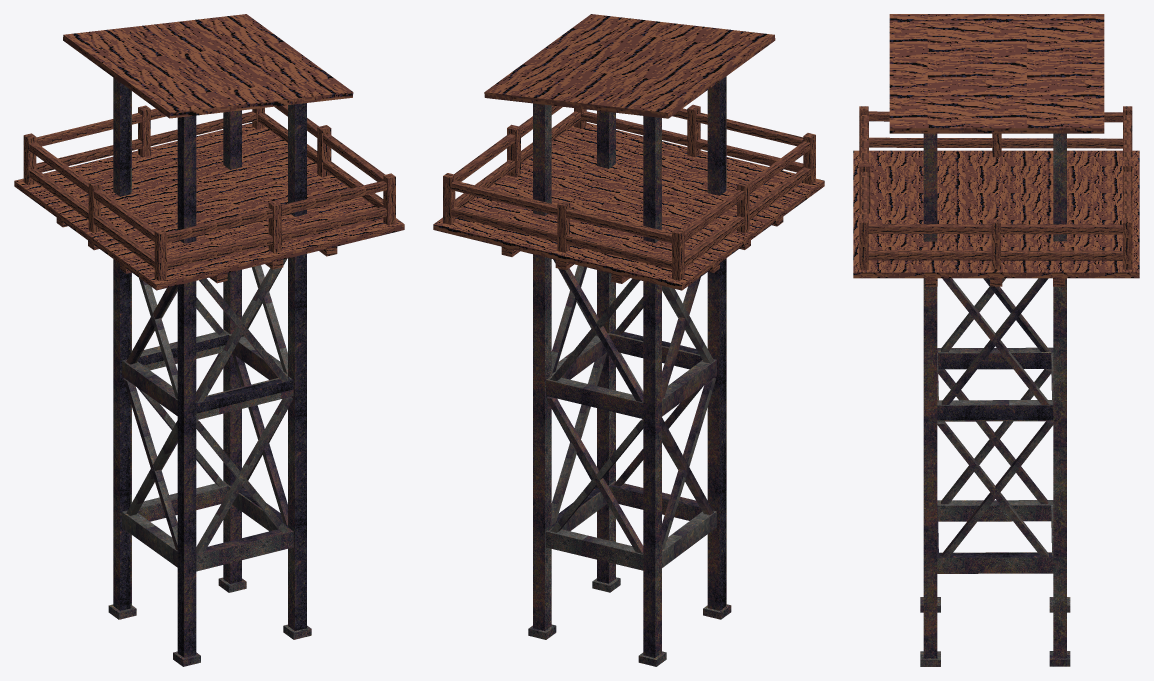
File: torre final.fbx
3 renders of one model, left to right at view 1: azimuth 30°, elevation 25°; view 2: azimuth 150°, elevation 25°; view 3: azimuth 270°, elevation 25°, orthographic.
Visible parts, largest first — view 1: Cube, Cube.010, Cube.015, Cube.024, Cube.013, Cube.011; view 2: Cube, Cube.010, Cube.015, Cube.024, Cube.013, Cube.011, Cube.014; view 3: Cube.010, Cube.015, Cube, Cube.024, Cube.011, Cube.013.
Boxes of the visible parts, x1,y1,x2,y2 form: Cube: (108, 77, 311, 666); Cube.010: (14, 123, 404, 290); Cube.015: (63, 14, 353, 118); Cube.024: (23, 105, 395, 281); Cube.013: (123, 258, 292, 554); Cube.011: (122, 330, 293, 571); Cube: (528, 76, 731, 666); Cube.010: (433, 123, 824, 290); Cube.015: (484, 14, 775, 118); Cube.024: (443, 104, 815, 280); Cube.013: (547, 259, 715, 553); Cube.011: (546, 329, 716, 570); Cube.014: (501, 217, 783, 283); Cube.010: (853, 150, 1139, 278); Cube.015: (889, 14, 1104, 133); Cube: (920, 133, 1070, 666); Cube.024: (859, 106, 1132, 270); Cube.011: (937, 347, 1053, 573); Cube.013: (937, 278, 1053, 557).
Size of the model in its own units: 1571 by 3461 by 1560.
